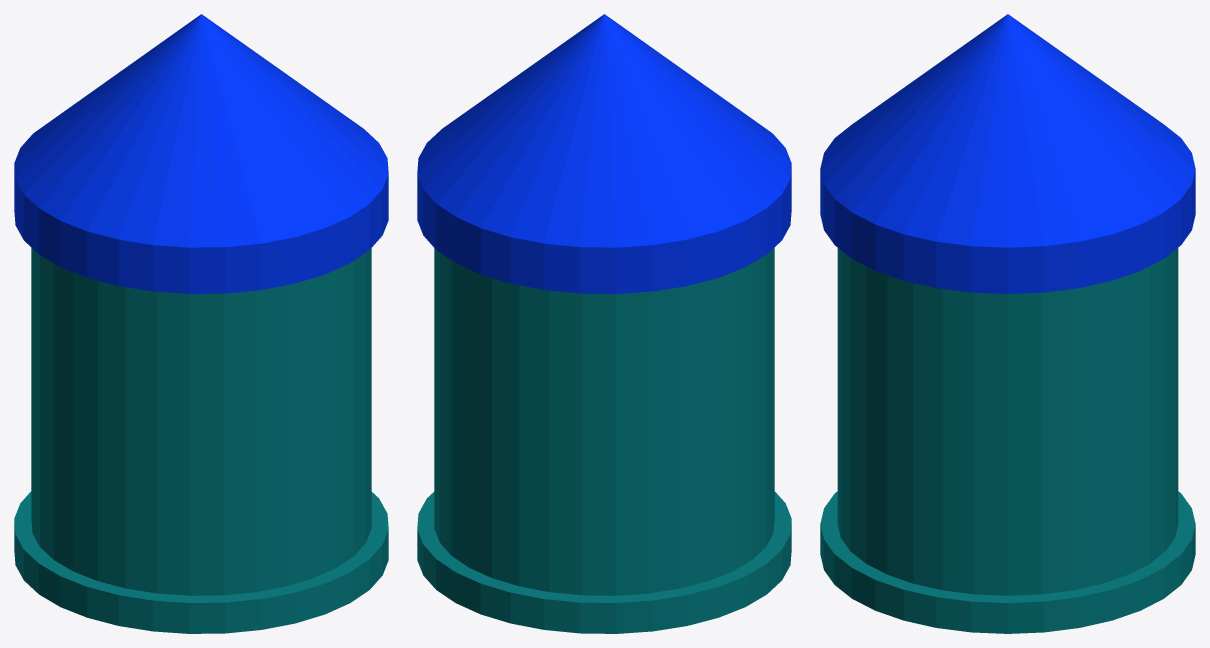
Rendered from warehouse.glb.
The picture shows the model from 3 angles, left to right: view 1: azimuth 30°, elevation 25°; view 2: azimuth 150°, elevation 25°; view 3: azimuth 270°, elevation 25°; orthographic projection.
Parts seen in each view (by area): view 1: building_011.001; view 2: building_011.001; view 3: building_011.001.
Boxes of the visible parts, <box> form: building_011.001: <box>14,14,388,633</box>; building_011.001: <box>417,14,791,633</box>; building_011.001: <box>820,14,1195,633</box>.
Bounding box in the file's own units: 2.2 × 3.5 × 2.2.
